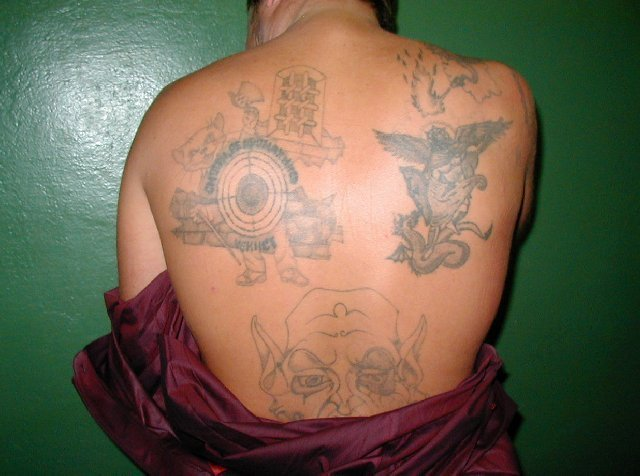tatu8_kot: (163, 117, 237, 165)
